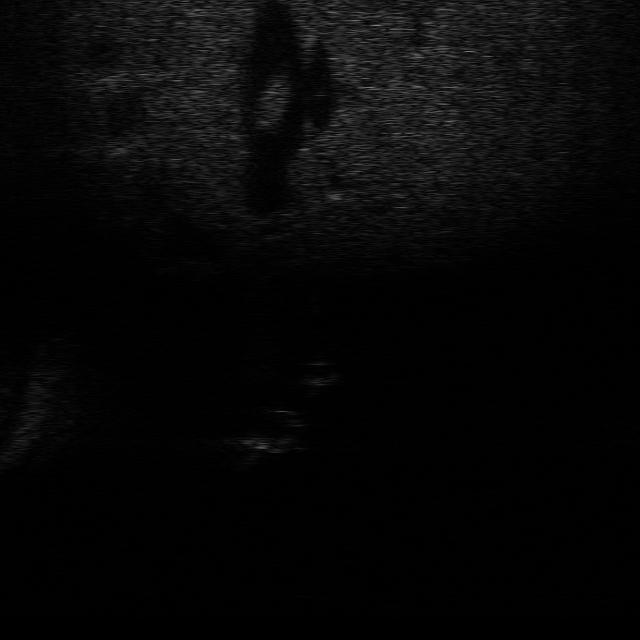ball: (294, 355, 345, 390)
square cage: (236, 425, 304, 466)
tyre: (254, 401, 310, 436)
